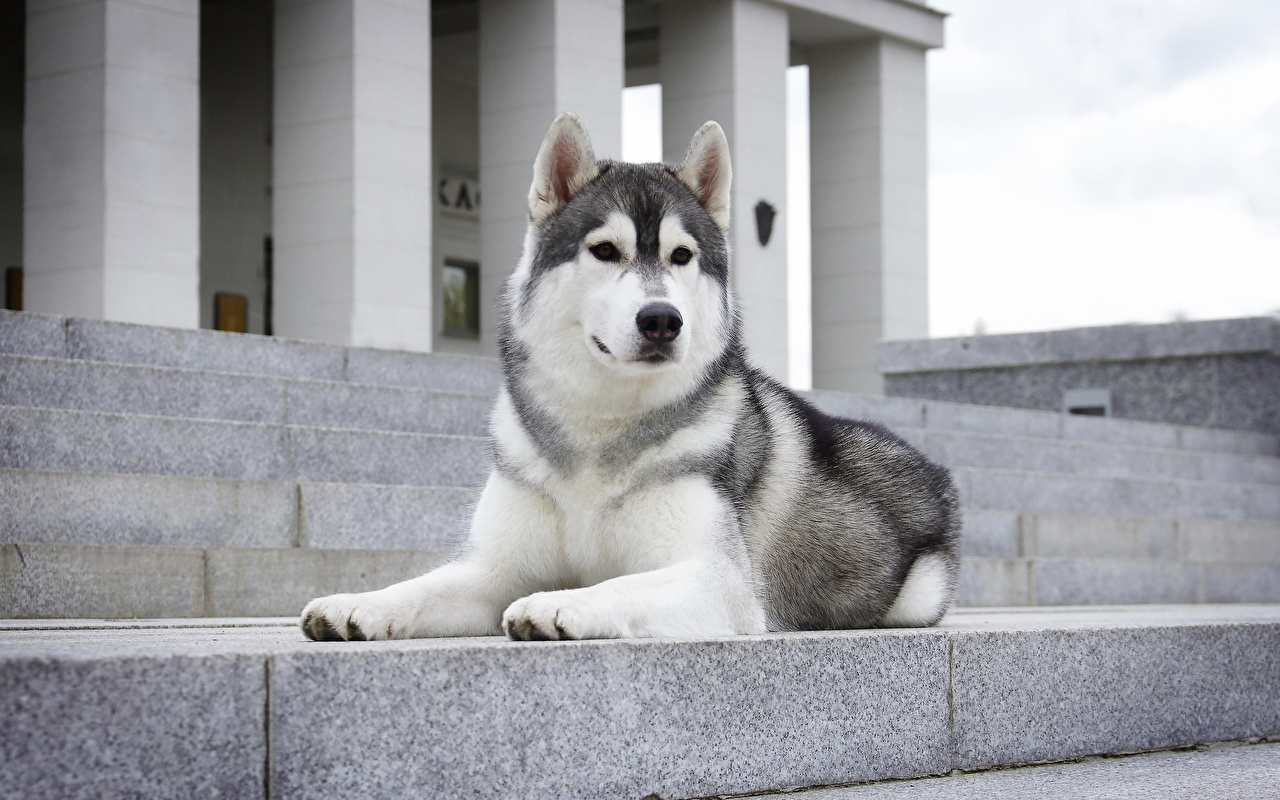husky: (452, 76, 795, 658)
